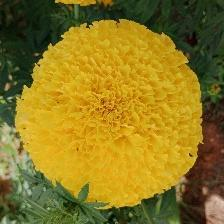marigold: (19, 21, 206, 195)
